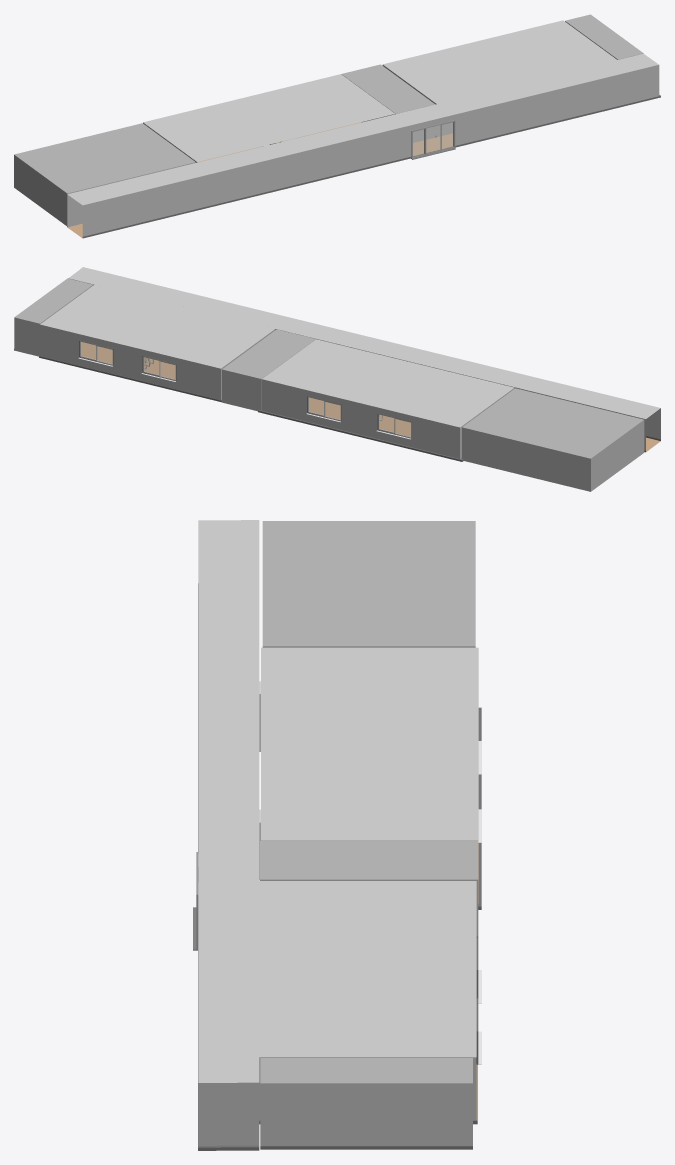
Rendered from school2draco.glb.
3 views of the same model, one above another, from view 1: azimuth 30°, elevation 25°; view 2: azimuth 150°, elevation 25°; view 3: azimuth 270°, elevation 25° (orthographic). The views are drawn at different scales.
Parts seen in each view (by area): view 1: Room, Ceiling.002, Ceiling.001, Ceiling, Room.005, Room.003, Room.002, Window, Baseboard, Floor; view 2: Room.005, Ceiling.002, Ceiling.001, Ceiling, Room.004, Room.001, Room.003, Room.002, Floor.002, Room, Floor.001, Baseboard.004 (+1 smaller); view 3: Ceiling.002, Ceiling.001, Ceiling, Room.005, Room.002, Room.003, Room.
Part boxes in pixels (<box>): Room: <box>67,65,659,236</box>; Ceiling.002: <box>143,74,394,161</box>; Ceiling.001: <box>383,20,616,103</box>; Ceiling: <box>67,53,658,205</box>; Room.005: <box>14,123,195,225</box>; Room.003: <box>341,64,434,114</box>; Room.002: <box>565,14,643,59</box>; Window: <box>411,120,455,159</box>; Baseboard: <box>67,95,660,238</box>; Floor: <box>67,133,452,237</box>; Room.005: <box>462,388,644,491</box>; Ceiling.002: <box>262,339,513,427</box>; Ceiling.001: <box>40,284,274,368</box>; Ceiling: <box>68,267,660,418</box>; Room.004: <box>261,379,514,458</box>; Room.001: <box>40,324,275,399</box>; Room.003: <box>222,329,315,411</box>; Room.002: <box>14,278,93,356</box>; Floor.002: <box>309,397,410,436</box>; Room: <box>68,278,660,450</box>; Floor.001: <box>81,342,175,379</box>; Baseboard.004: <box>258,410,463,461</box>; Ceiling.002: <box>261,647,478,840</box>; Ceiling.001: <box>259,881,476,1057</box>; Ceiling: <box>198,520,259,1082</box>; Room.005: <box>262,521,475,647</box>; Room.002: <box>260,1058,472,1145</box>; Room.003: <box>260,841,478,936</box>; Room: <box>198,1082,259,1145</box>.
Bounding box in the file's own units: 43.9 × 2.44 × 9.5.
